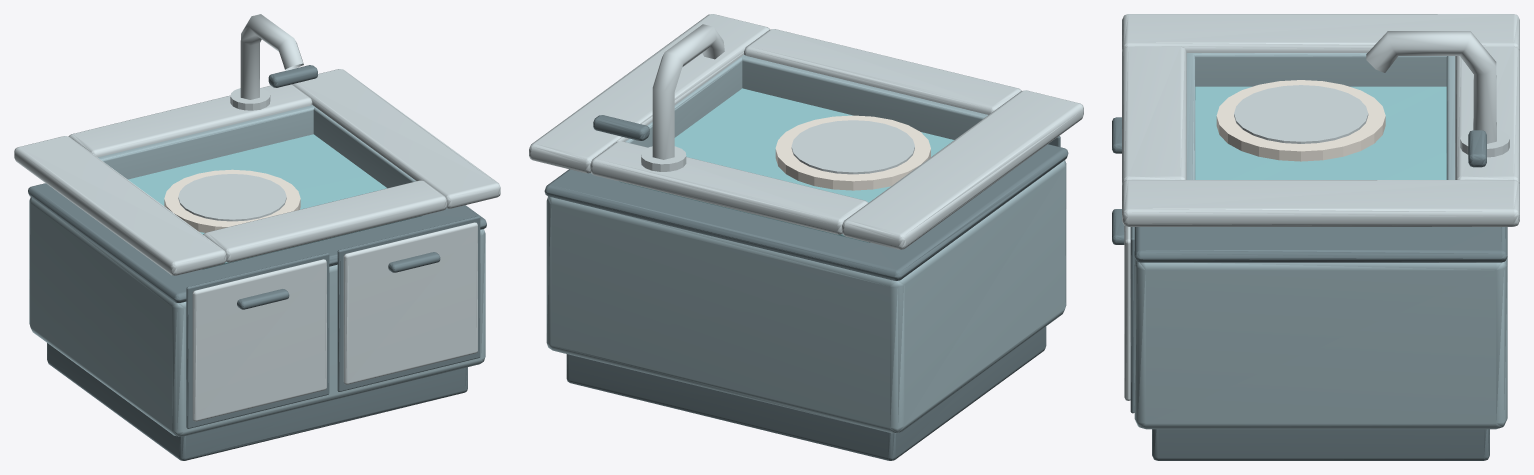
Rendered from Sink.fbx.
The picture shows the model from 3 angles, left to right: view 1: azimuth 30°, elevation 25°; view 2: azimuth 150°, elevation 25°; view 3: azimuth 270°, elevation 25°; orthographic projection. The views are drawn at different scales.
Visible parts, largest first — view 1: Sink.001; view 2: Sink.001; view 3: Sink.001.
Boxes of the visible parts, left/top/right/bottom form: Sink.001: left=14, top=14, right=500, bottom=460; Sink.001: left=529, top=14, right=1083, bottom=460; Sink.001: left=1112, top=14, right=1519, bottom=460.
Bounding box in the file's own units: 1.9 × 1.68 × 1.64.
